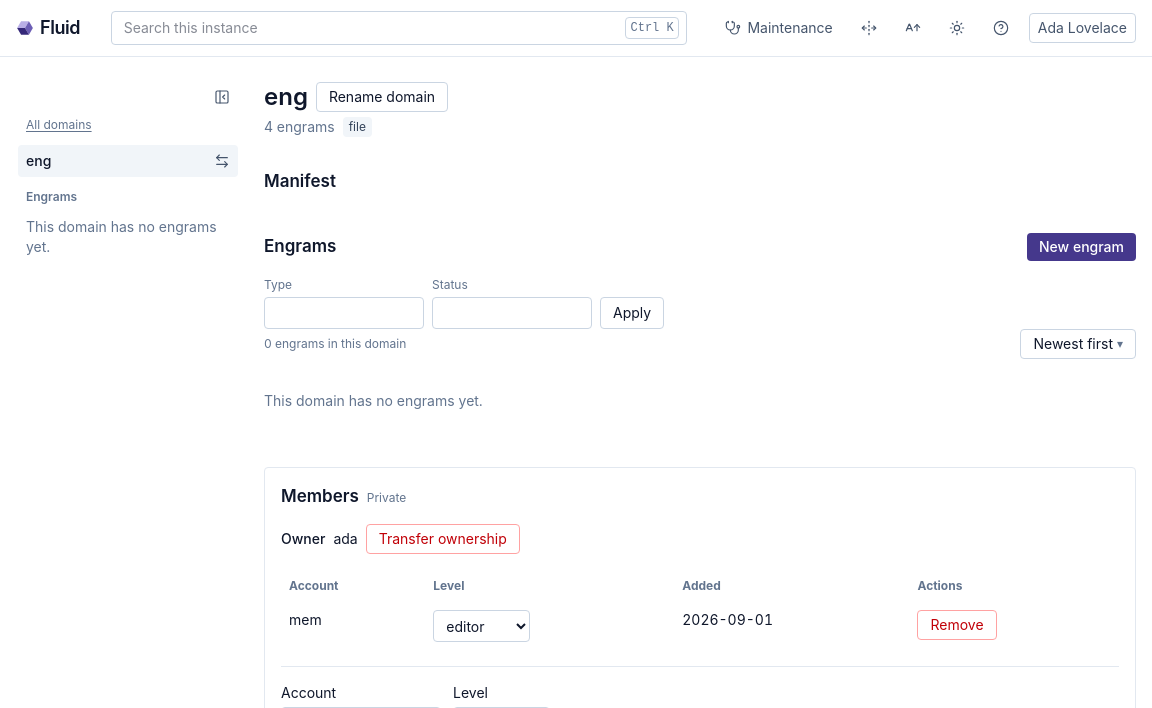
Test: the members card › renders the server's own refusal rather than pretending the row changed
The width and height of the screenshot is (1152, 708).
Click the button with aria-label "Remove mem" at (957, 625), box [918,610,997,640]
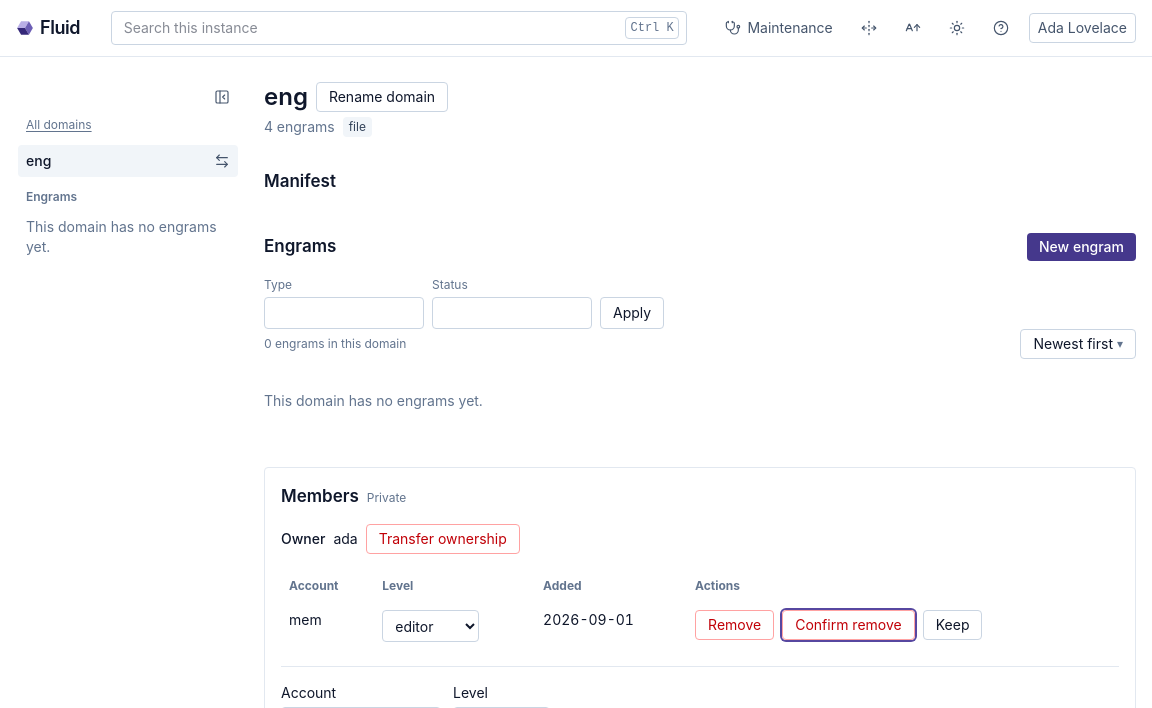
Click the button with aria-label "Confirm remove mem" at (848, 625), box [782,610,915,640]
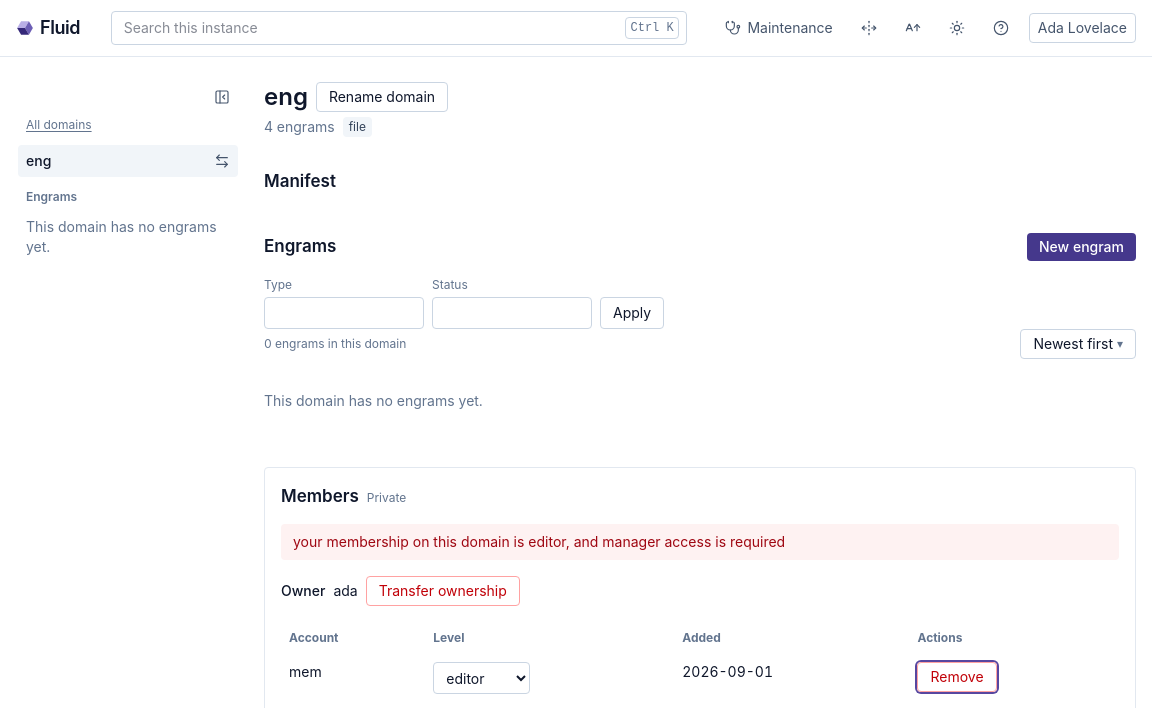
Expected: the column heading "mem" is shown, [281,654,425,702]
Now the text "your membership on this domain is editor, and manager access is required" is shown, box [281,524,1119,560]
